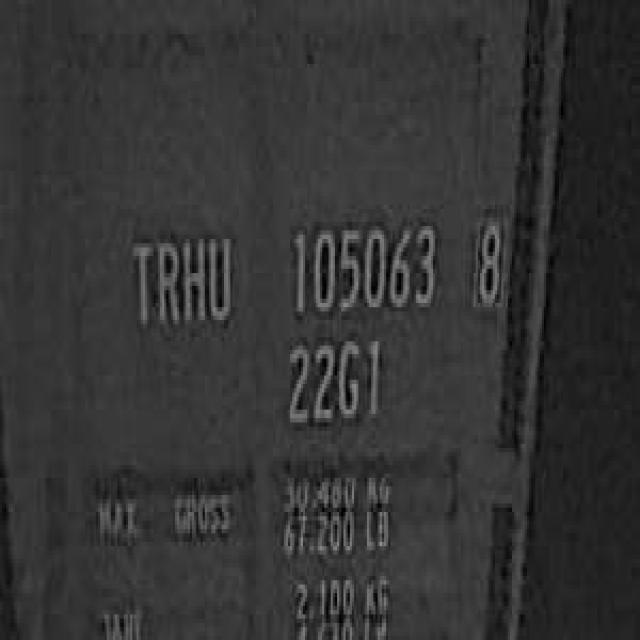dv: (467, 201, 508, 320)
owner: (126, 222, 235, 337)
serial: (284, 209, 442, 324)
size: (279, 333, 384, 435)
